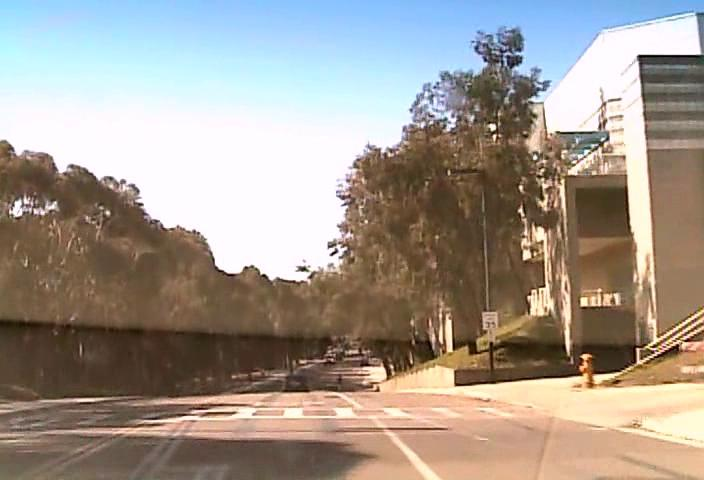speedLimitUrdbl: (481, 310, 499, 330)
